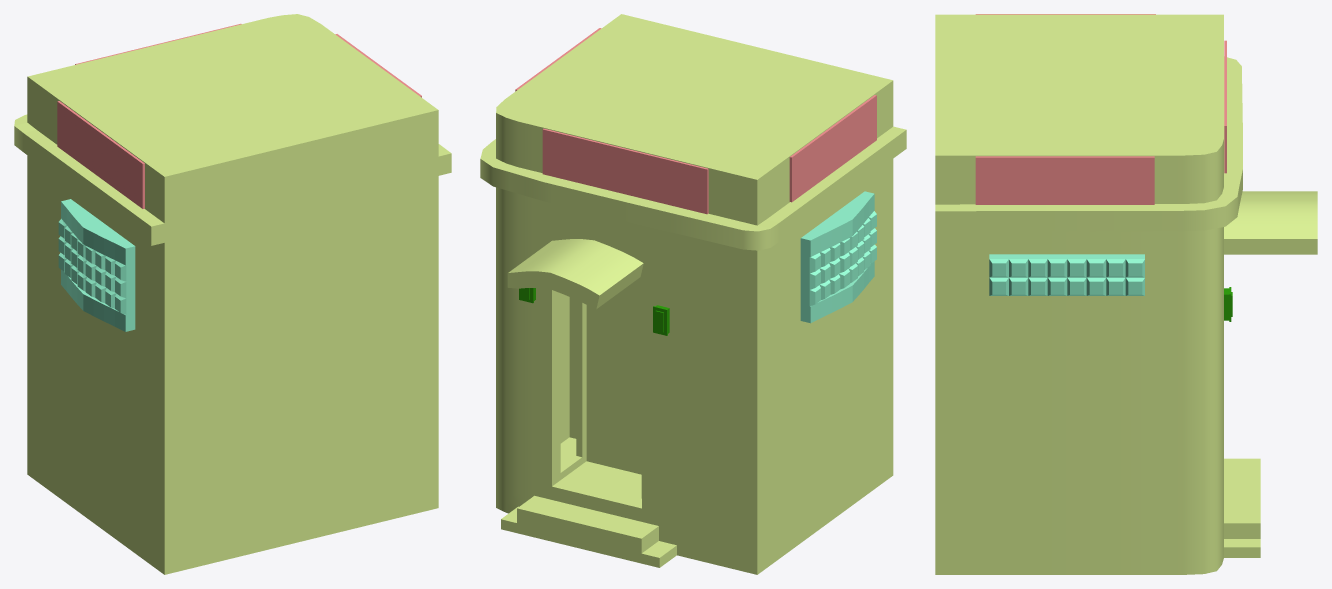
3 renders of one model, left to right at view 1: azimuth 30°, elevation 25°; view 2: azimuth 150°, elevation 25°; view 3: azimuth 270°, elevation 25°, orthographic. The views are drawn at different scales.
Parts seen in each view (by area): view 1: トイレ, Box030, Box034; view 2: トイレ, Box032, Box030, Box034; view 3: トイレ, Box033, Box031.
Part boxes in pixels (left/top/right/bottom): トイレ: left=14, top=14, right=451, bottom=574; Box030: left=58, top=199, right=135, bottom=331; Box034: left=57, top=101, right=144, bottom=208; トイレ: left=480, top=14, right=906, bottom=574; Box032: left=542, top=128, right=708, bottom=214; Box030: left=800, top=191, right=876, bottom=323; Box034: left=789, top=95, right=876, bottom=202; トイレ: left=935, top=14, right=1317, bottom=574; Box033: left=975, top=156, right=1154, bottom=204; Box031: left=989, top=254, right=1144, bottom=295.
Size of the model in its own units: 50.87 by 62.98 by 52.06.
